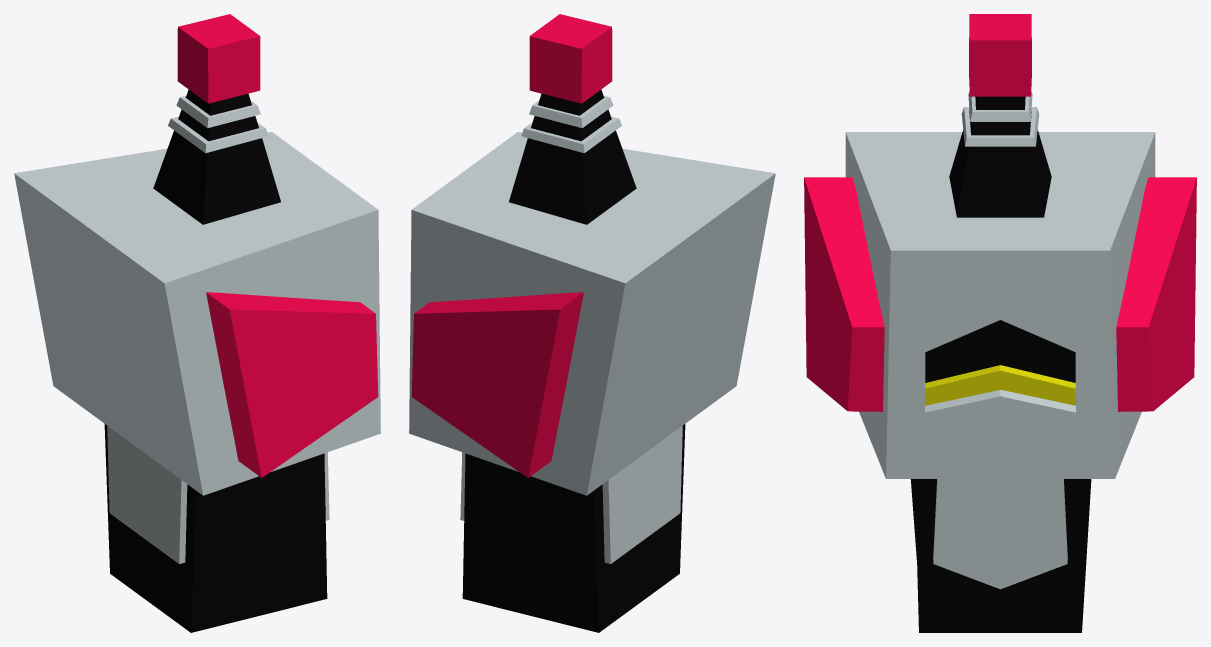
File: Robot.fbx
3 renders of one model, left to right at view 1: azimuth 30°, elevation 25°; view 2: azimuth 150°, elevation 25°; view 3: azimuth 270°, elevation 25°, orthographic. The views are drawn at different scales.
Parts seen in each view (by area): view 1: Cube; view 2: Cube; view 3: Cube.
Boxes of the visible parts, x1=… form: Cube: x1=14, y1=14, x2=380, y2=632; Cube: x1=409, y1=14, x2=775, y2=632; Cube: x1=804, y1=14, x2=1196, y2=632.
Bounding box in the file's own units: 222 × 500 × 312.
